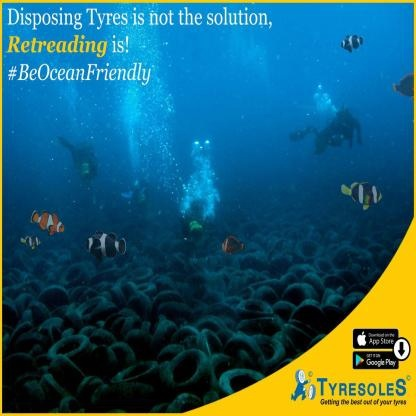tire: (4, 276, 202, 404), (258, 224, 348, 350), (197, 262, 266, 382)
